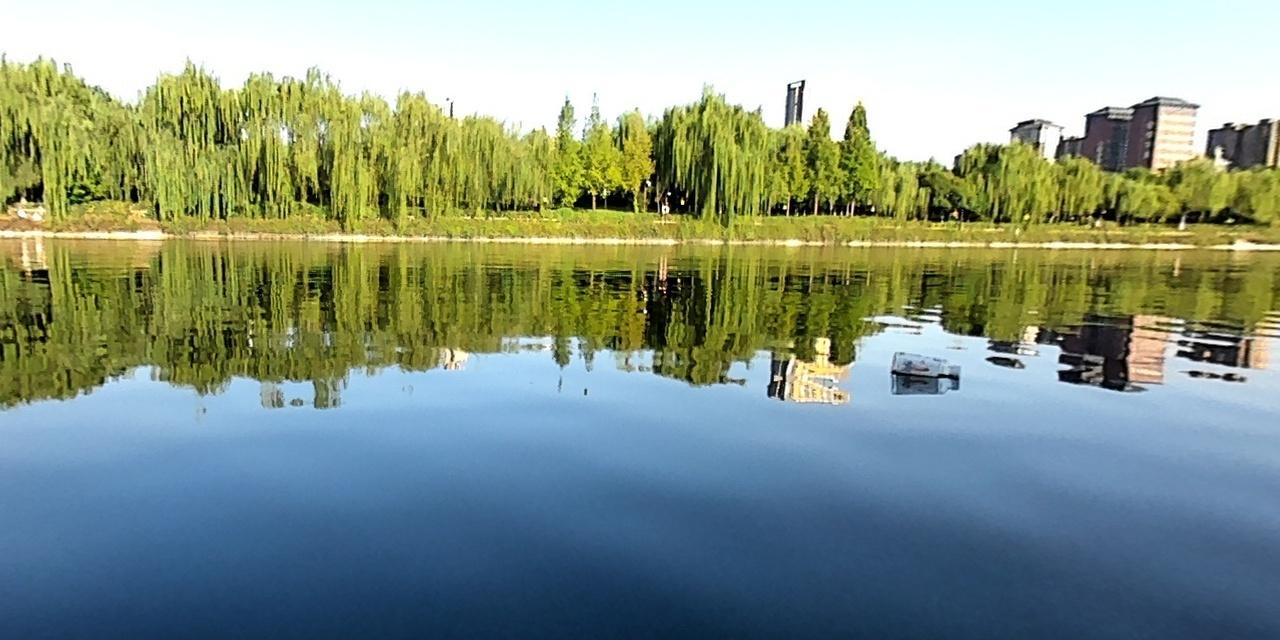bottle: (886, 345, 963, 380)
